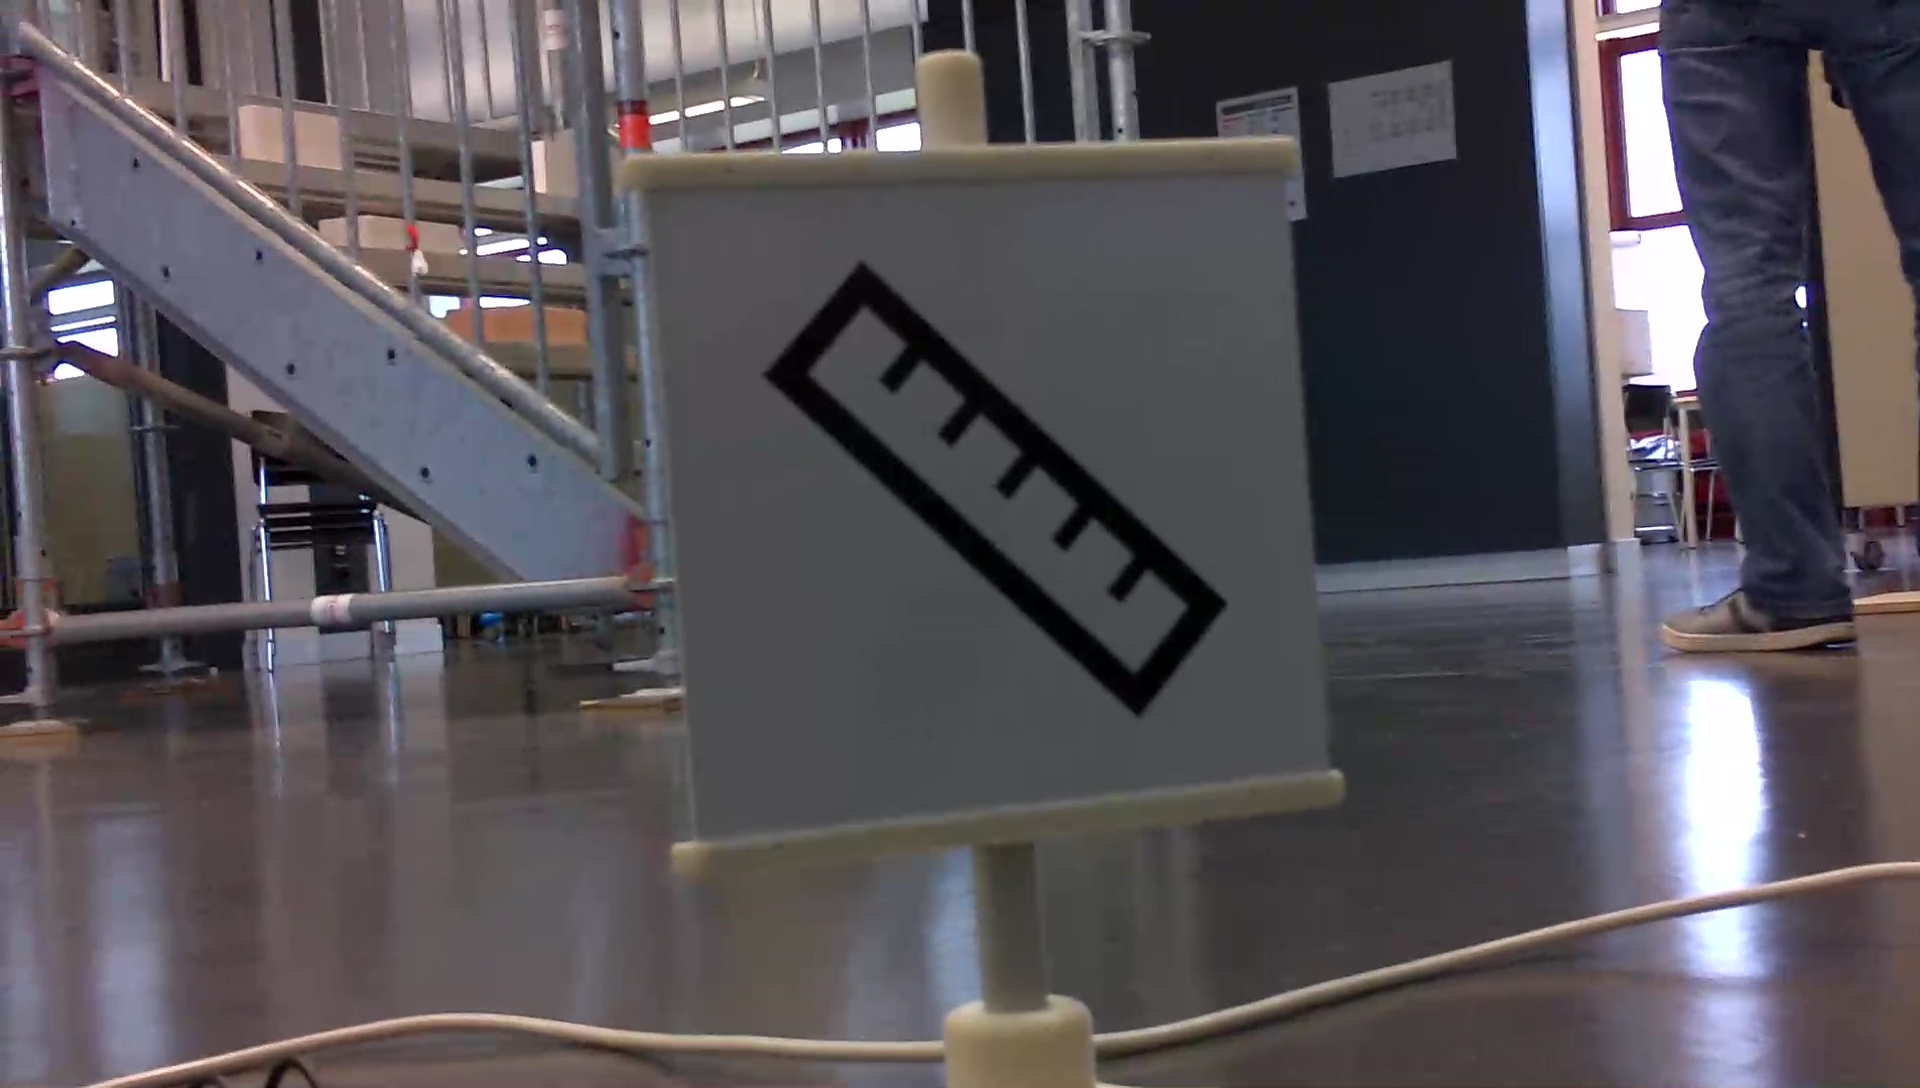ruler: (760, 249, 1222, 721)
